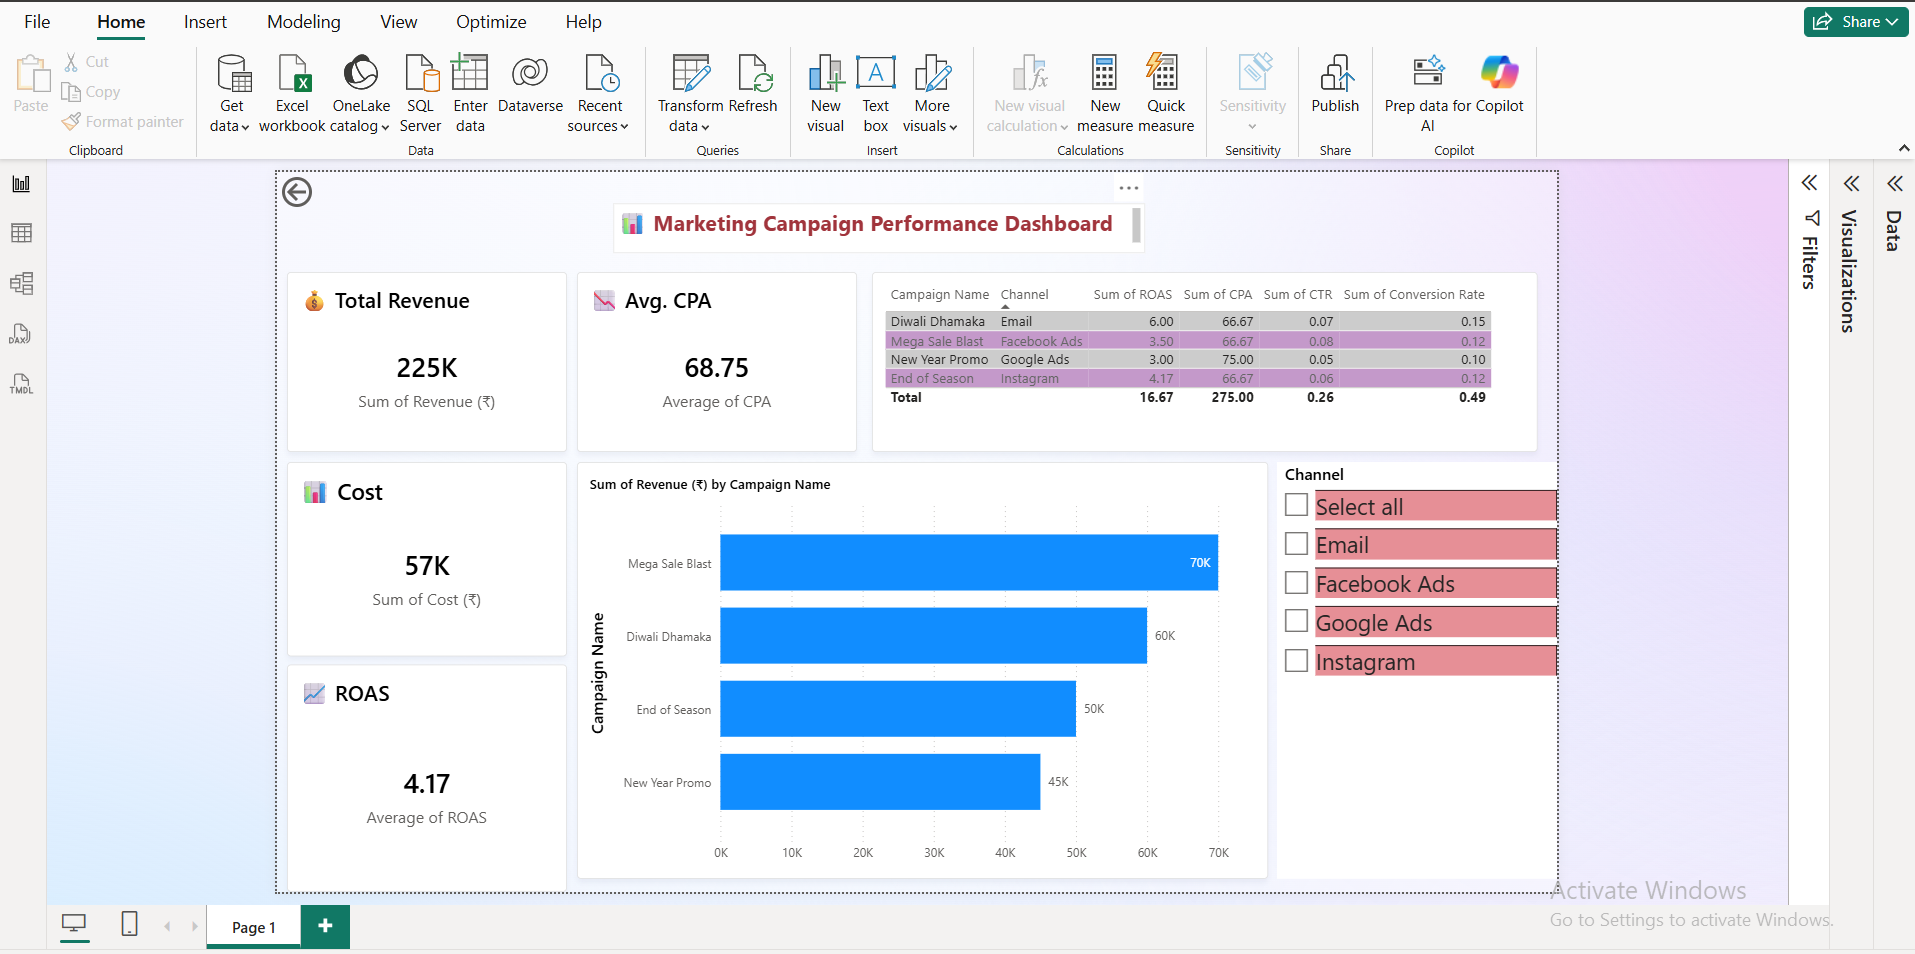

Layout of this report page (visuals, bound fields, positions):
{"tool":"powerbi","page":{"name":"Page 1","canvas":[1280,720],"ordinal":0},"visuals":[{"type":"card","title":"💰 Total Revenue","fields":{"Values":["Sum(Marketing_Campaign_Data.Revenue (₹))"]},"box":[9.8,100.3,280,179.8],"z":0},{"type":"actionButton","box":[0,0,100,40],"z":1000},{"type":"card","title":"📊 Cost","fields":{"Values":["Sum(Marketing_Campaign_Data.Cost (₹))"]},"box":[9.8,289.8,280,194.4],"z":2000},{"type":"card","title":"📈 ROAS","fields":{"Values":["Avg(Marketing_Campaign_Data.ROAS)"]},"box":[9.8,492.8,280,227.4],"z":3000},{"type":"card","title":"📉 Avg. CPA","fields":{"Values":["Avg(Marketing_Campaign_Data.CPA)"]},"box":[299.6,100.3,280,179.8],"z":4000},{"type":"clusteredBarChart","fields":{"Category":["Marketing_Campaign_Data.Campaign Name"],"Y":["Sum(Marketing_Campaign_Data.Revenue (₹))"]},"box":[299.6,289.8,690.9,417],"z":5000},{"type":"tableEx","fields":{"Values":["Marketing_Campaign_Data.Campaign Name","Marketing_Campaign_Data.Channel","Sum(Marketing_Campaign_Data.ROAS)","Sum(Marketing_Campaign_Data.CPA)","Sum(Marketing_Campaign_Data.CTR)","Sum(Marketing_Campaign_Data.Conversion Rate)"]},"box":[595.5,100.3,665.2,179.8],"z":6000},{"type":"slicer","fields":{"Values":["Marketing_Campaign_Data.Channel"]},"box":[1000.3,289.8,280,417],"z":7000},{"type":"textbox","box":[336,31,532,50],"z":8000}]}

Visuals, with their boxes on the page's 1280x720 design canvas (x1, y1, x2, y2). These are canvas units, not pixel positions in the 1915x954 screenshot, which may show the page scaled, cropped or inside an application window:
"💰 Total Revenue" card: Rect(10, 100, 290, 280)
actionButton: Rect(0, 0, 100, 40)
"📊 Cost" card: Rect(10, 290, 290, 484)
"📈 ROAS" card: Rect(10, 493, 290, 720)
"📉 Avg. CPA" card: Rect(300, 100, 580, 280)
clusteredBarChart - Marketing_Campaign_Data.Campaign Name x Sum(Marketing_Campaign_Data.Revenue (₹)): Rect(300, 290, 990, 707)
tableEx - Marketing_Campaign_Data.Campaign Name x Marketing_Campaign_Data.Channel: Rect(596, 100, 1261, 280)
slicer - Marketing_Campaign_Data.Channel: Rect(1000, 290, 1280, 707)
textbox: Rect(336, 31, 868, 81)
